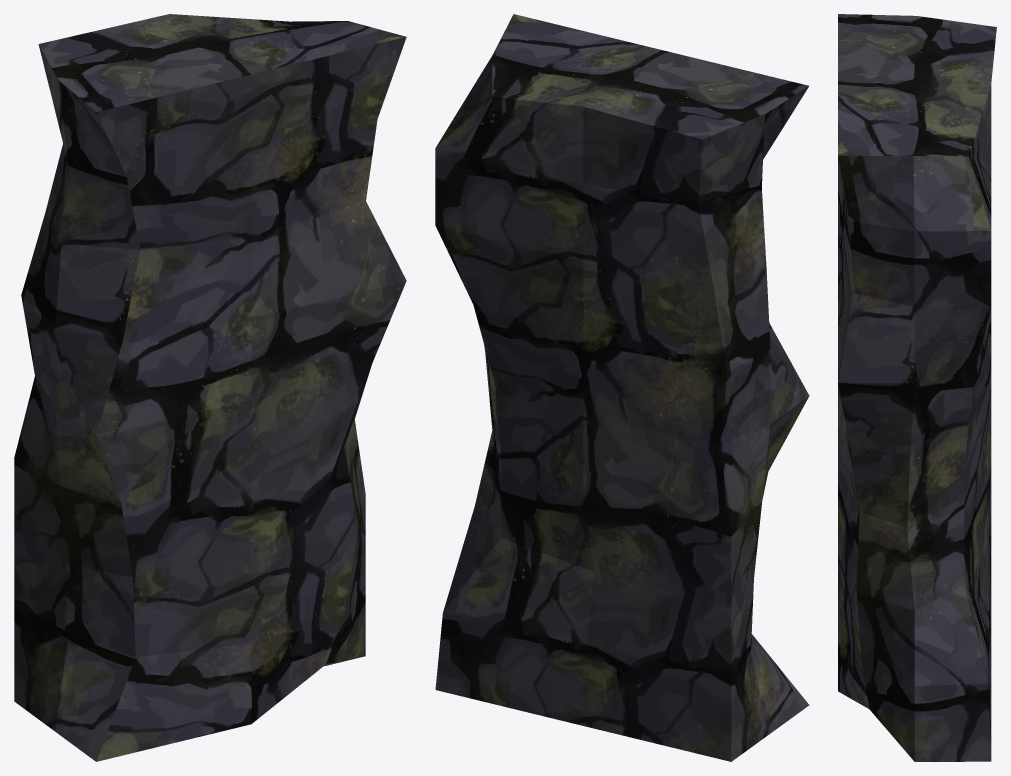
The model's file is Ruins_07.fbx.
3 views of the same model, side by side, from view 1: azimuth 30°, elevation 25°; view 2: azimuth 150°, elevation 25°; view 3: azimuth 270°, elevation 25° (orthographic). The views are drawn at different scales.
Parts seen in each view (by area): view 1: Ruins_07; view 2: Ruins_07; view 3: Ruins_07.
Part boxes in pixels (x1,y1,x2,y2): Ruins_07: [14, 14, 406, 761]; Ruins_07: [435, 14, 809, 761]; Ruins_07: [838, 14, 996, 761].
Bounding box in the file's own units: 0.2501 × 0.5004 × 0.1187.
Materials: 1 (1 with a texture image).
